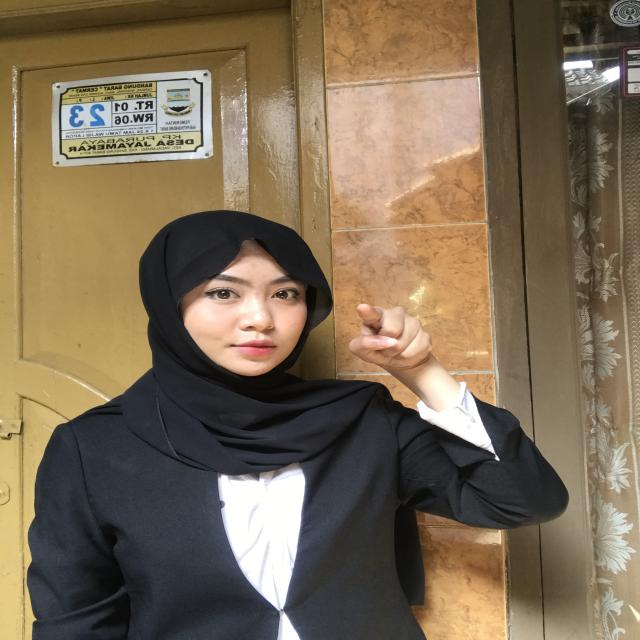kamu: (323, 282, 458, 394)
